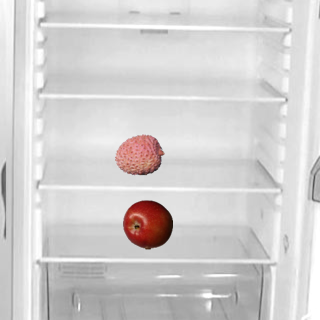Apple Braeburn: (122, 199, 172, 249)
Lychee: (114, 129, 164, 179)
